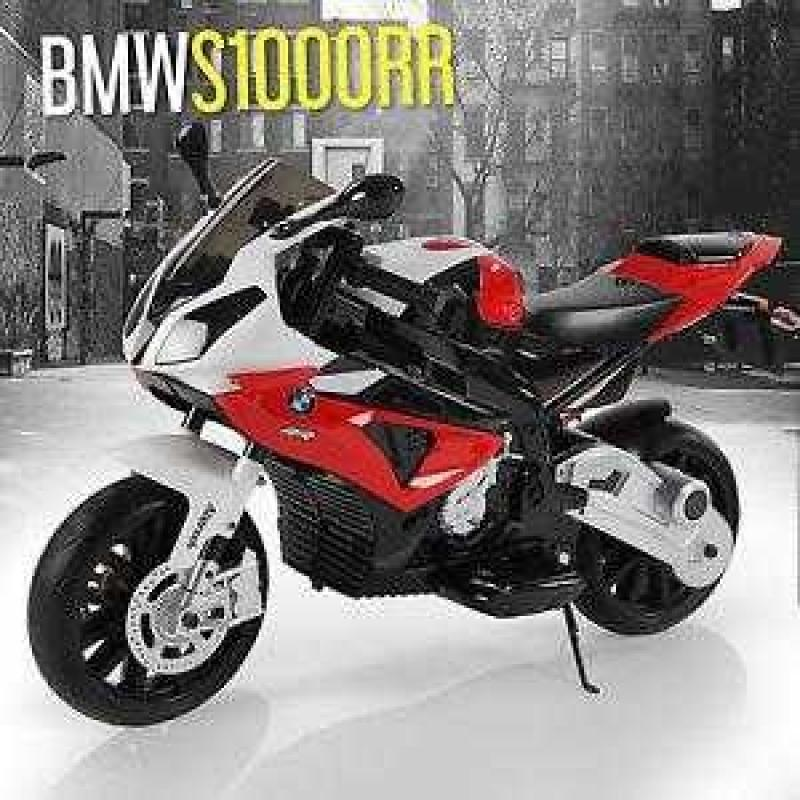bike: (31, 124, 787, 697)
